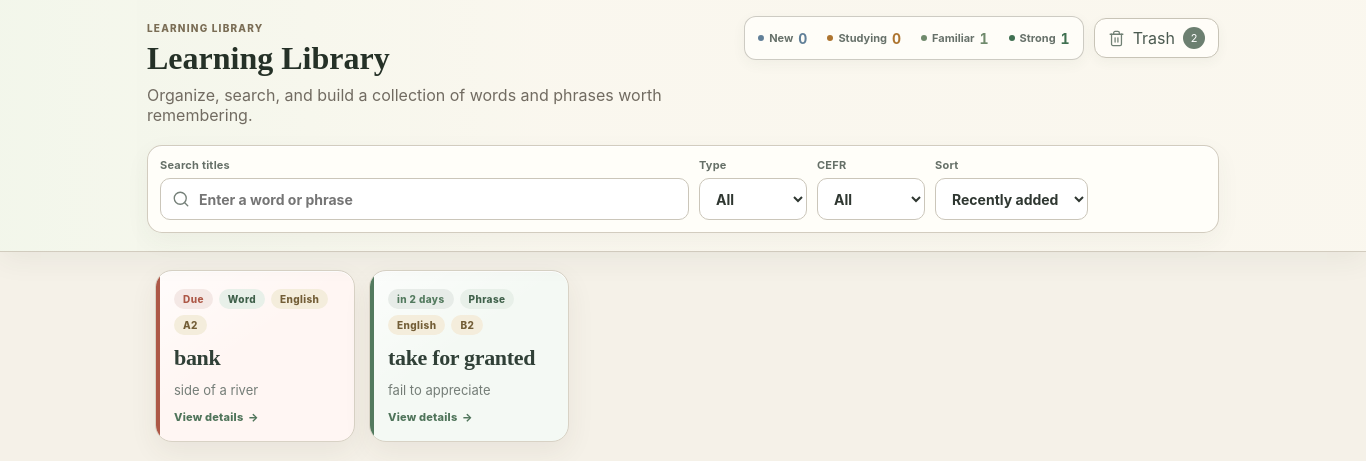
it: LearningLibraryWorkspace › automatically pages through Trash with the same bounded flow
Expected: the button "Due Word English A2 bank side of a river View details →" is shown, [155,270,355,442]
Click the button "Trash 2".
click(1156, 38)  # box [1094,18,1219,58]
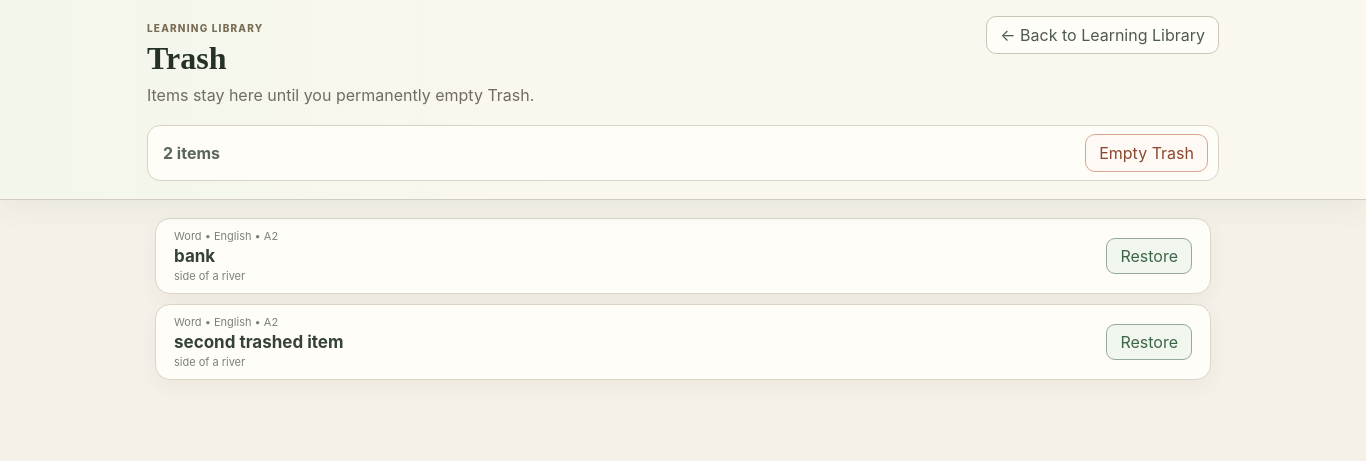
Expected: the button with aria-label "Restore bank" is shown, [1106,238,1192,274]
Expected: the button with aria-label "Restore second trashed item" is shown, [1106,324,1192,360]
